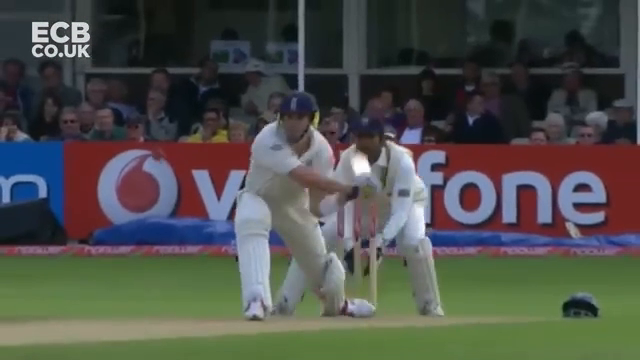Keeper: (352, 118, 446, 317)
batsman: (236, 89, 375, 319)
